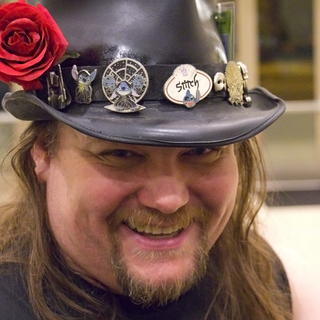eye: (88, 141, 150, 169), (176, 140, 225, 165)
